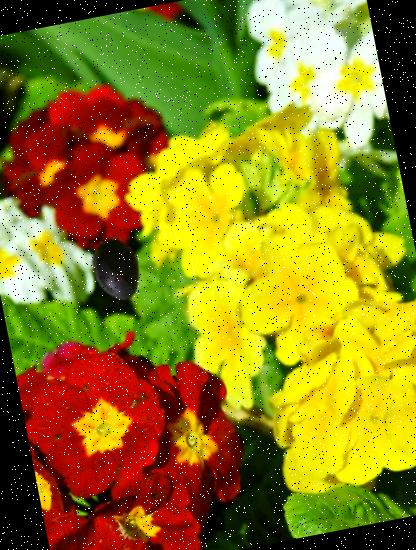Plum: (79, 233, 154, 308)
